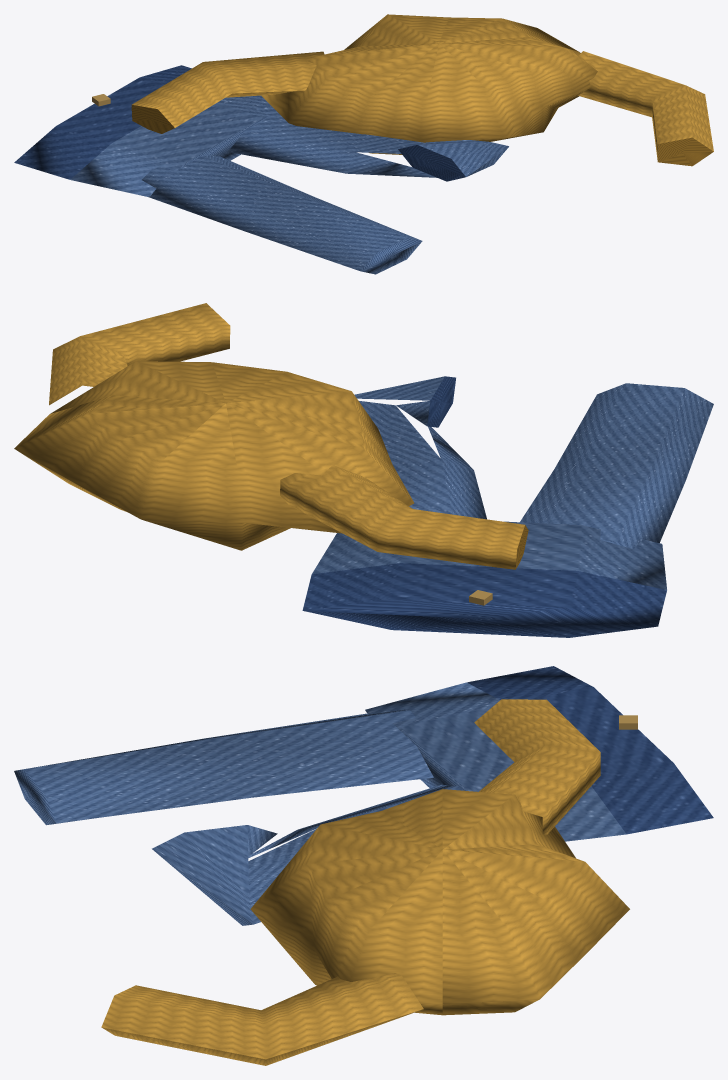
The model's file is clothes_heap.glb.
The picture shows the model from 3 angles, top to bottom: view 1: azimuth 30°, elevation 25°; view 2: azimuth 150°, elevation 25°; view 3: azimuth 270°, elevation 25°; orthographic projection. The views are drawn at different scales.
Visible parts, largest first — view 1: clothes_heap; view 2: clothes_heap; view 3: clothes_heap.
Boxes of the visible parts, x1,y1,x2,y2 form: clothes_heap: [14, 14, 713, 274]; clothes_heap: [14, 303, 713, 637]; clothes_heap: [14, 666, 713, 1065].
Bounding box in the file's own units: 0.7842 × 0.0885 × 0.5865.
Materials: 2 (1 with a texture image).
